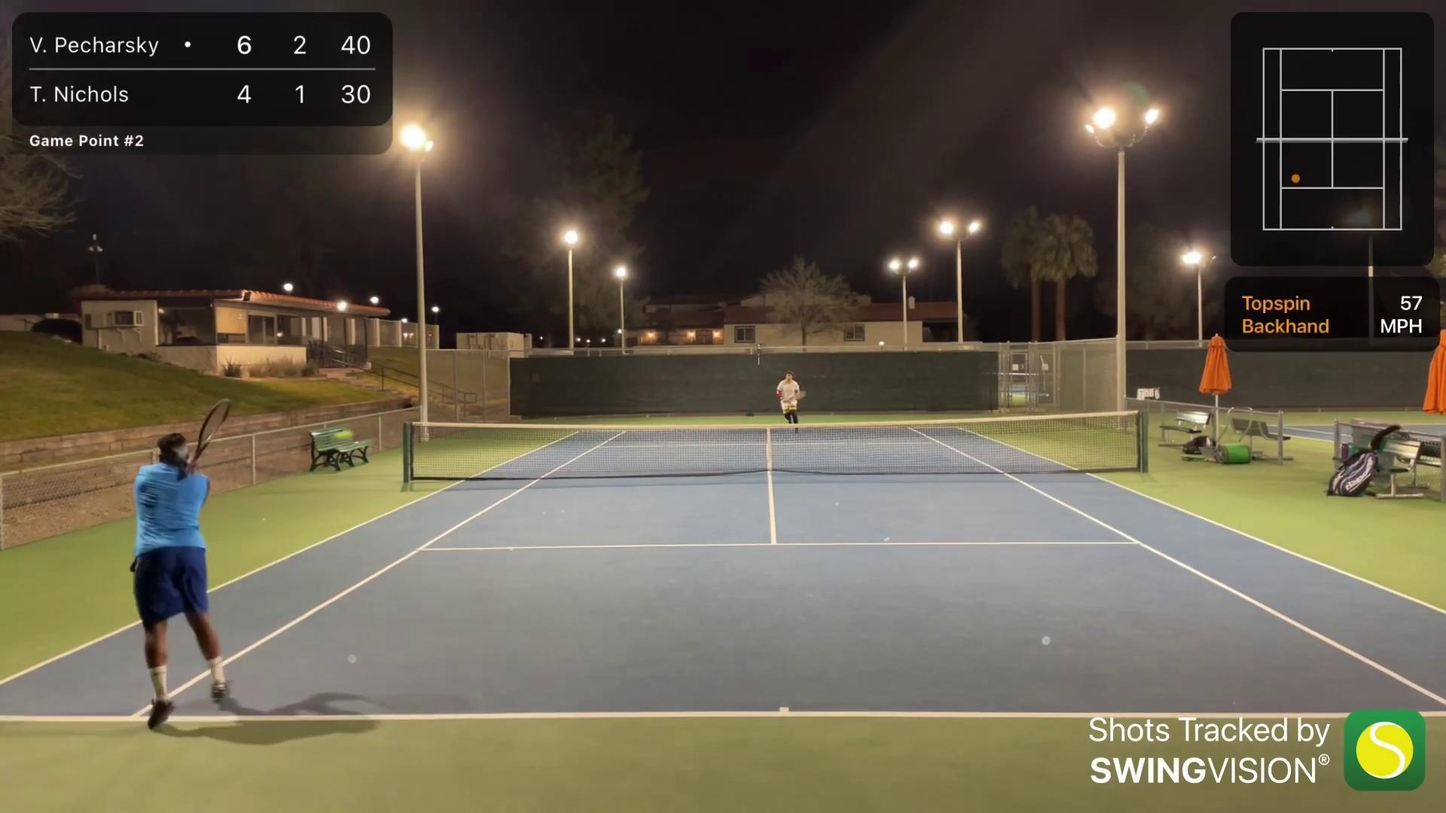ball: (348, 431, 353, 436)
